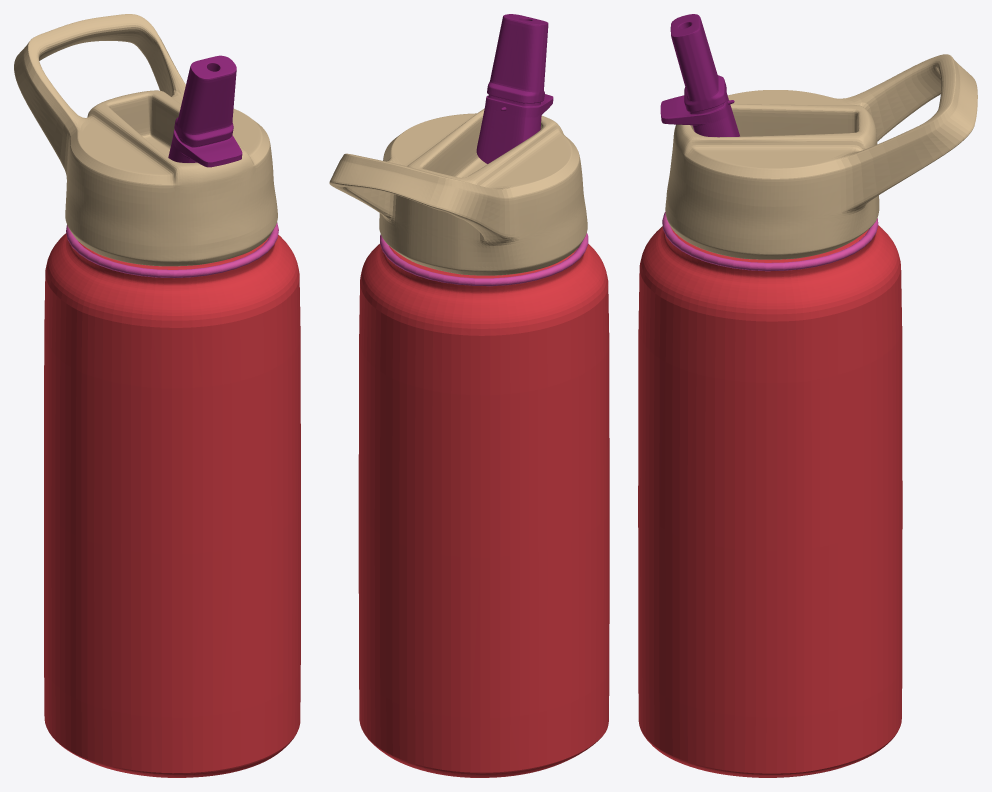
3 renders of one model, left to right at view 1: azimuth 30°, elevation 25°; view 2: azimuth 150°, elevation 25°; view 3: azimuth 270°, elevation 25°, orthographic. The views are drawn at different scales.
Visible parts, largest first — view 1: world; view 2: world; view 3: world.
Boxes of the visible parts, x1,y1,x2,y2 form: world: (14, 14, 300, 777); world: (329, 14, 609, 777); world: (638, 14, 977, 777).
Bounding box in the file's own units: 0.3317 × 0.9959 × 0.4337.
